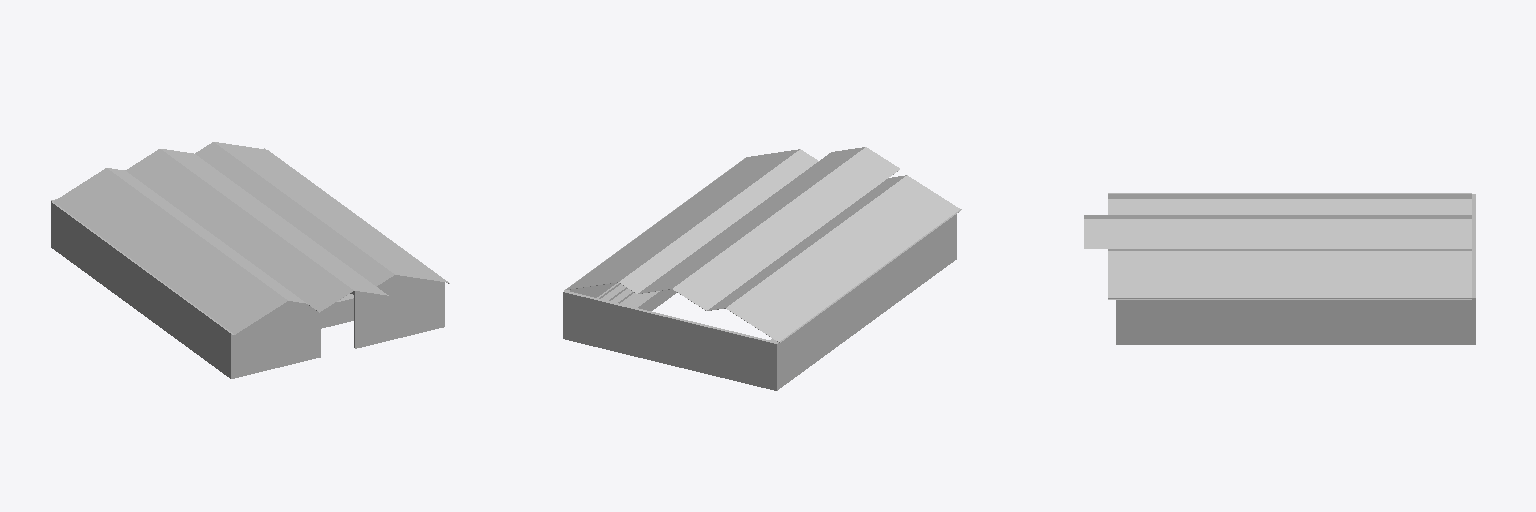
File: arena.obj
The picture shows the model from 3 angles: view 1: azimuth 30°, elevation 25°; view 2: azimuth 150°, elevation 25°; view 3: azimuth 270°, elevation 25°; orthographic projection.
Parts seen in each view (by area): view 1: facade_Ceiling, facade_facade, facade_Wall; view 2: facade_Ceiling, facade_Wall; view 3: facade_Ceiling, facade_Wall.
Part boxes in pixels (x1,y1,x2,y2): facade_Ceiling: (52, 142, 449, 334); facade_facade: (230, 275, 444, 378); facade_Wall: (51, 148, 353, 377); facade_Ceiling: (564, 147, 961, 342); facade_Wall: (563, 215, 955, 390); facade_Ceiling: (1084, 193, 1471, 299); facade_Wall: (1118, 194, 1475, 344).
Bounding box in the file's own units: 57.9 × 19 × 90.72.